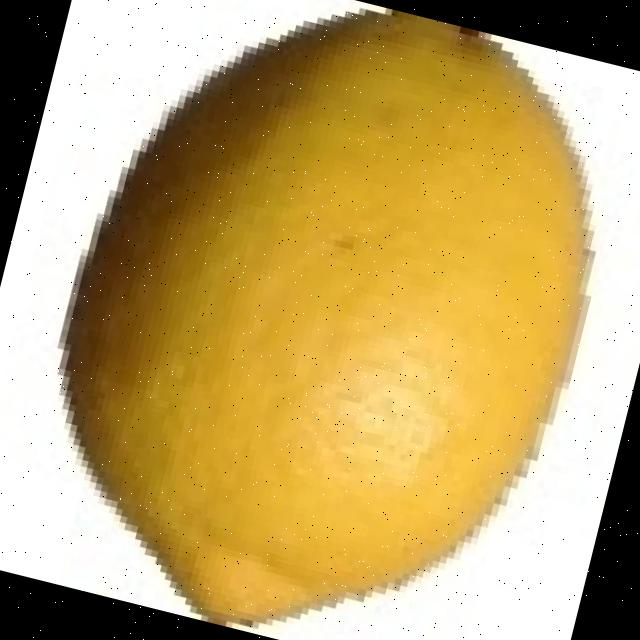lemon: (63, 9, 588, 626)
